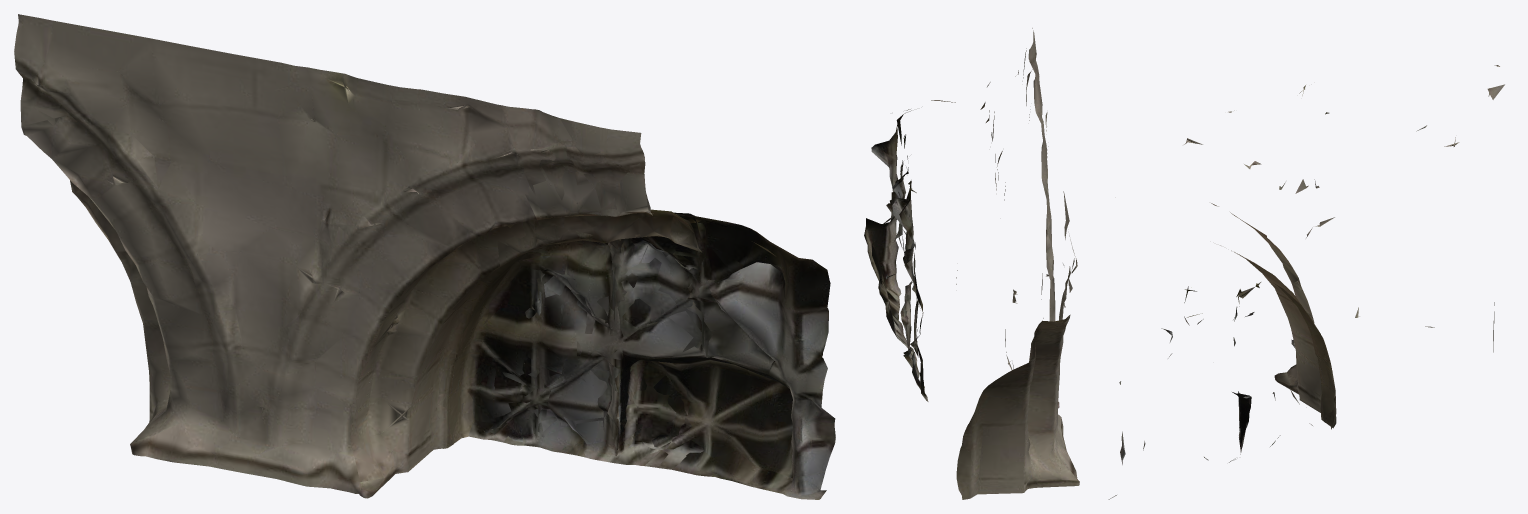
The picture shows the model from 3 angles, left to right: view 1: azimuth 30°, elevation 25°; view 2: azimuth 150°, elevation 25°; view 3: azimuth 270°, elevation 25°; orthographic projection. The views are drawn at different scales.
Size of the model in its own units: 3.28 by 2.36 by 2.9.
Materials: 1 (1 with a texture image).
